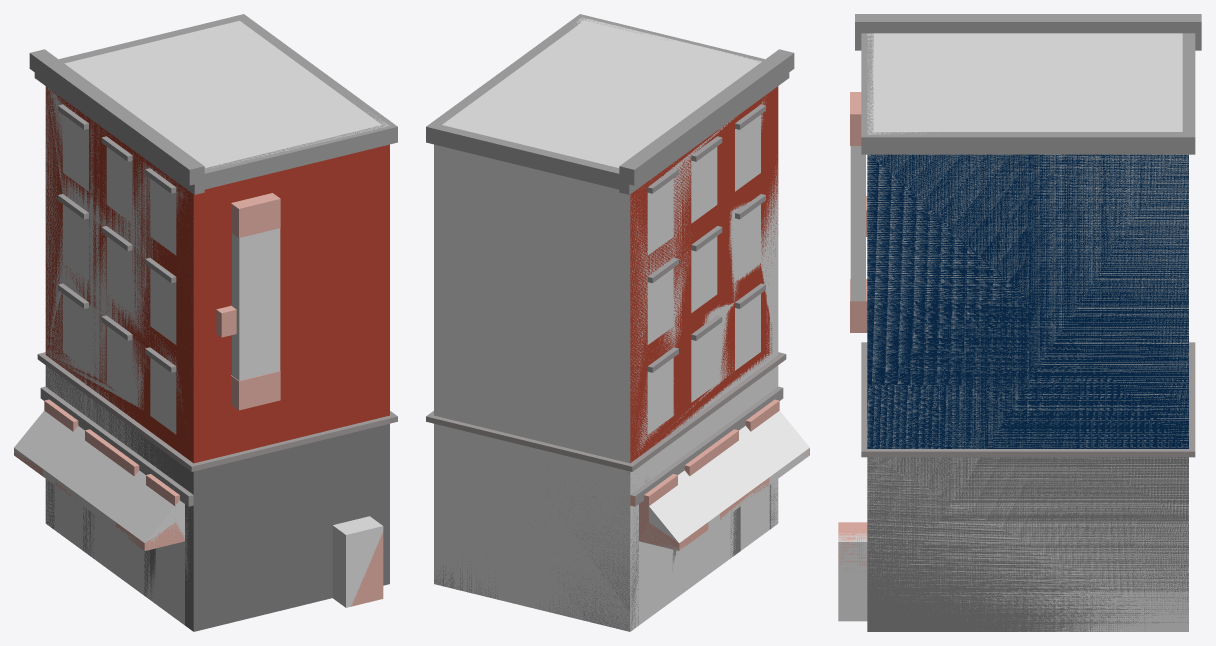
Rendered from Building_B2_Home03_1_01.FBX.
The picture shows the model from 3 angles, left to right: view 1: azimuth 30°, elevation 25°; view 2: azimuth 150°, elevation 25°; view 3: azimuth 270°, elevation 25°; orthographic projection. The views are drawn at different scales.
Visible parts, largest first — view 1: Building_B2_Home03_Live_1_01, Building_B2_Home03_Damage_1_01; view 2: Building_B2_Home03_Damage_1_01, Building_B2_Home03_Live_1_01; view 3: Building_B2_Home03_Live_1_01, Building_B2_Home03_Damage_1_01.
Boxes of the visible parts, x1,y1,x2,y2 form: Building_B2_Home03_Live_1_01: [14, 14, 397, 631]; Building_B2_Home03_Damage_1_01: [14, 20, 389, 625]; Building_B2_Home03_Damage_1_01: [434, 17, 809, 631]; Building_B2_Home03_Live_1_01: [426, 14, 809, 631]; Building_B2_Home03_Live_1_01: [838, 14, 1201, 631]; Building_B2_Home03_Damage_1_01: [838, 33, 1188, 631].
Size of the model in its own units: 6.24 by 11.57 by 7.49.
